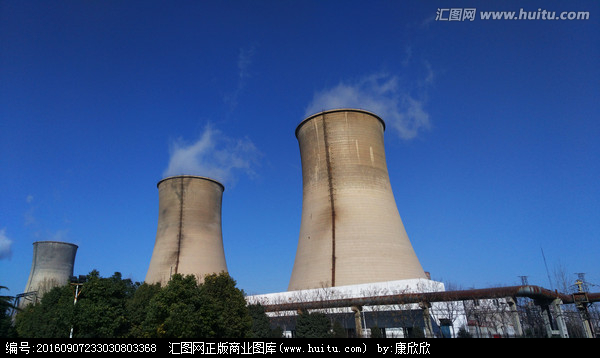dust: (148, 132, 252, 188)
